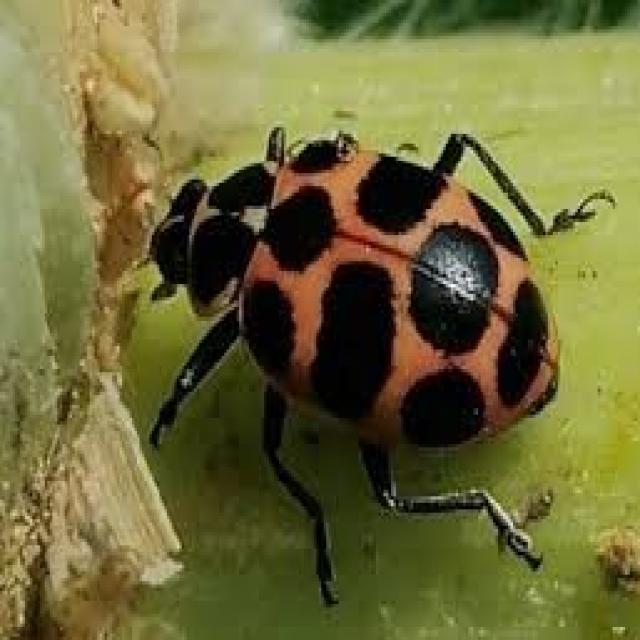bug: (125, 105, 628, 620)
